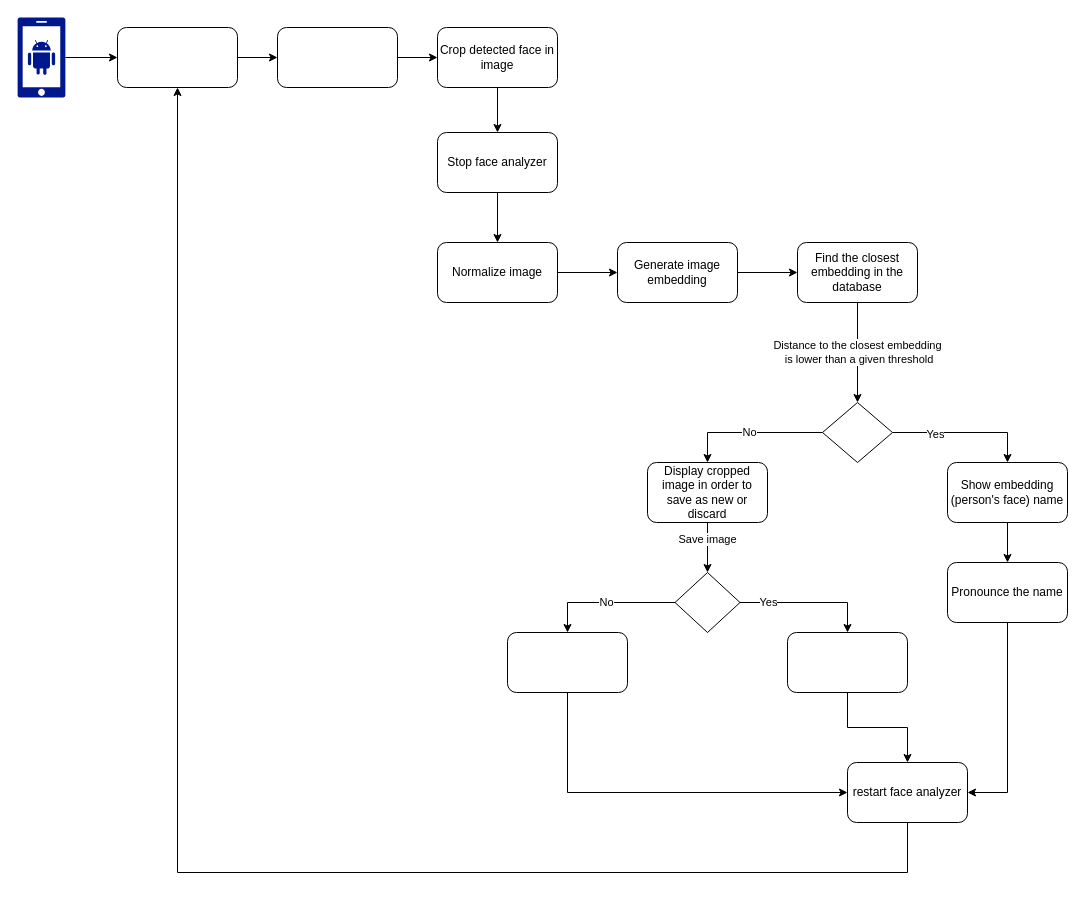
Image size: 1085x898. Some labels were removed from this diagram. The centre of each missing label's shape, as x and y in pixels:
"Capture camera image preview" belongs at pixel 177 57.
"Detect faces in the image" belongs at pixel 337 57.
"Discard face image cropped" belongs at pixel 567 662.
"Save new embedding in the database" belongs at pixel 847 662.
